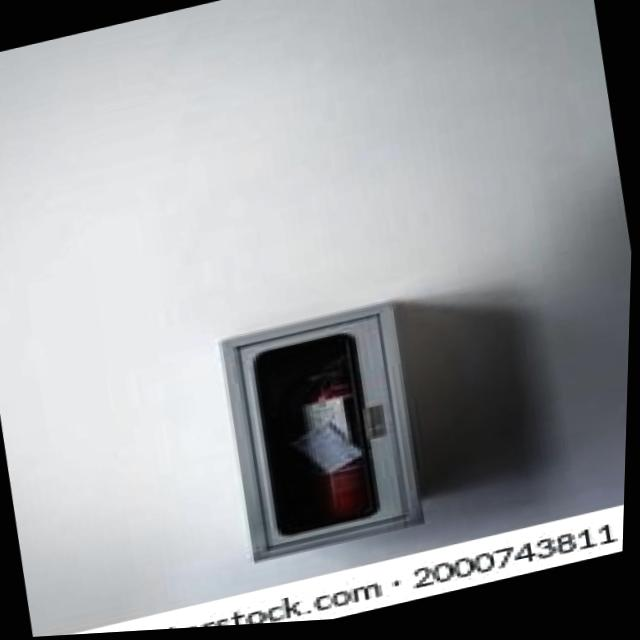FireExtinguisher: (263, 333, 401, 545)
